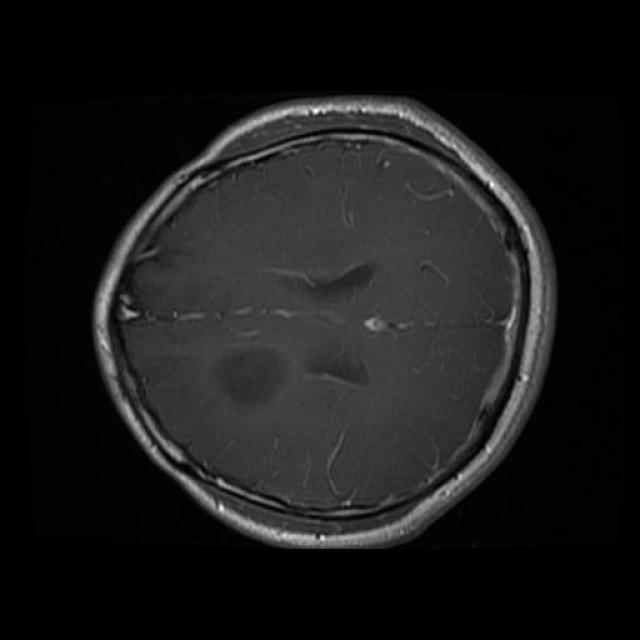Glioma: (215, 348, 287, 407)
